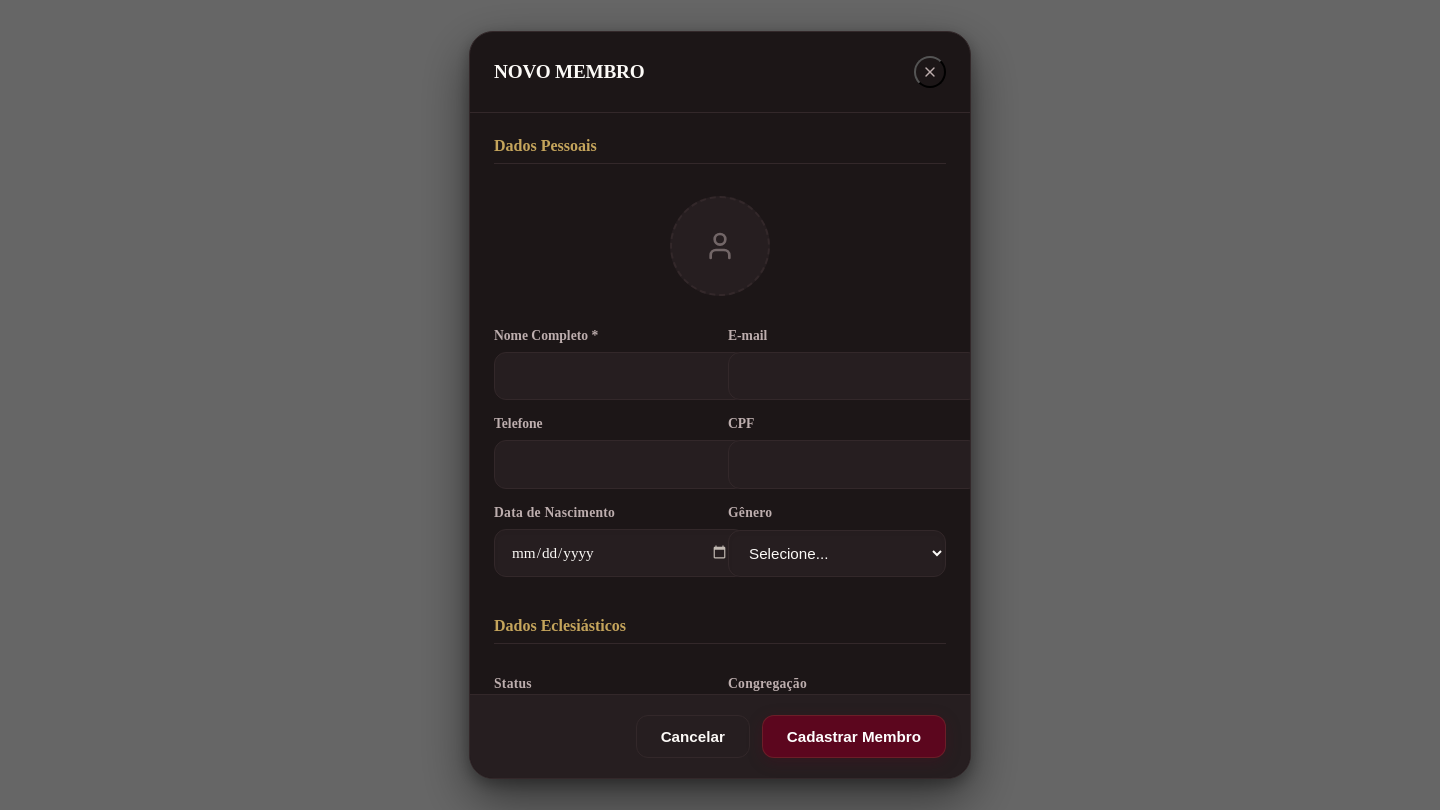
MemberFormModal › validates name requirement before saving
This screenshot has width=1440, height=810.
Click the button "Cadastrar Membro": (854, 736) [762,715,946,758]
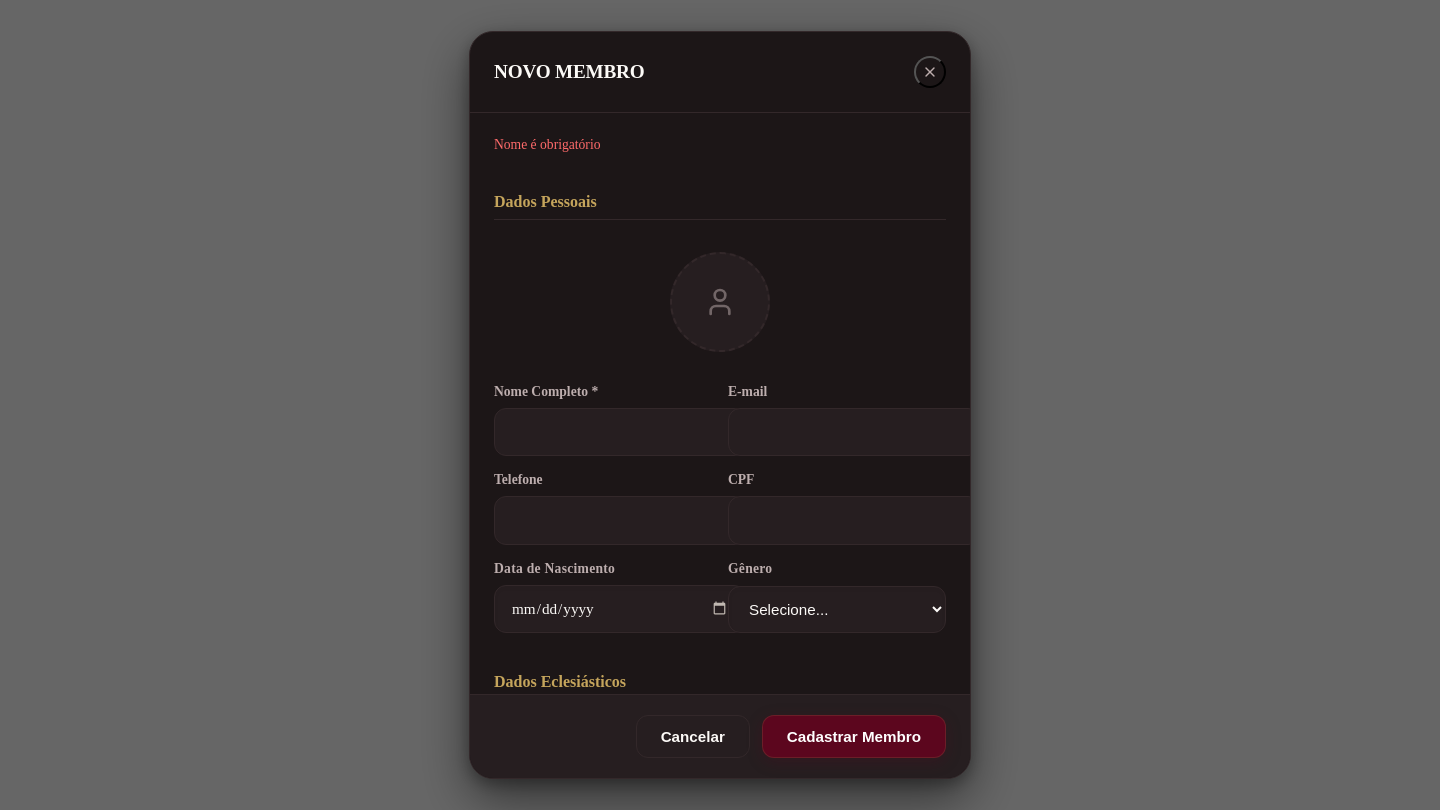
Expected: the text "Nome é obrigatório" is shown, [494,137,600,152]
